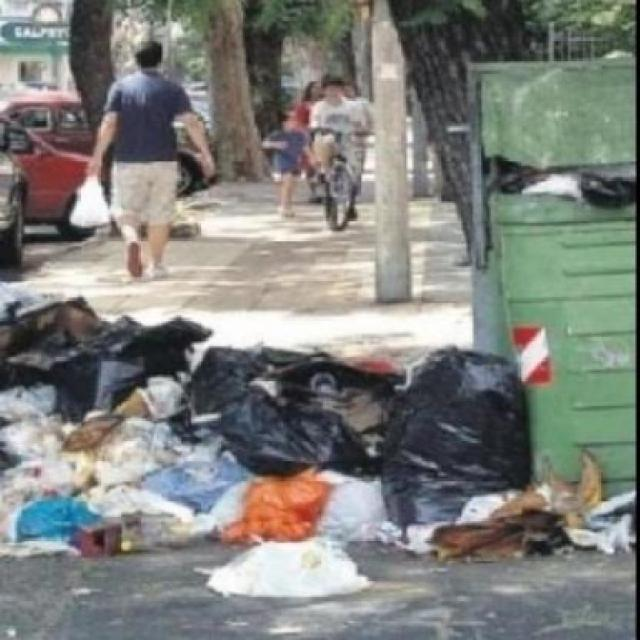garbage: (2, 280, 640, 639)
